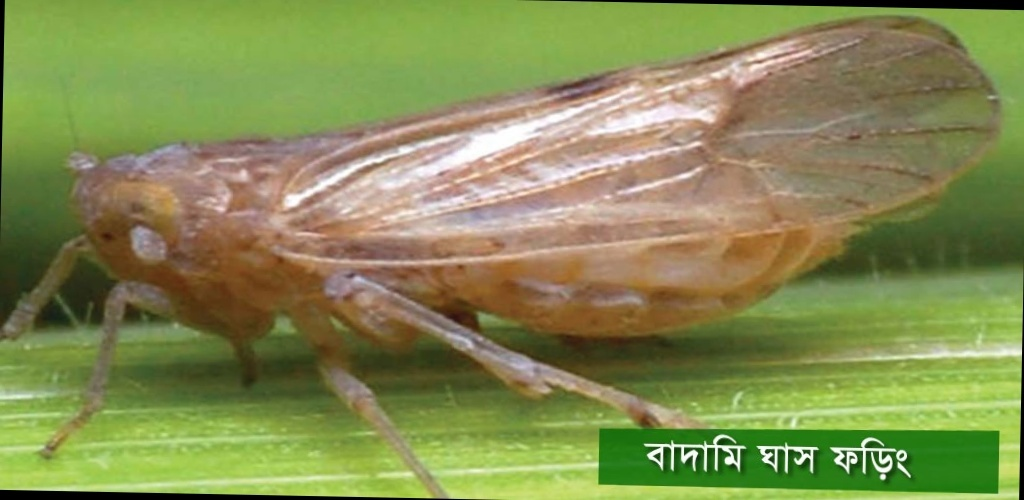Brown_hopper: (19, 0, 1002, 429)
